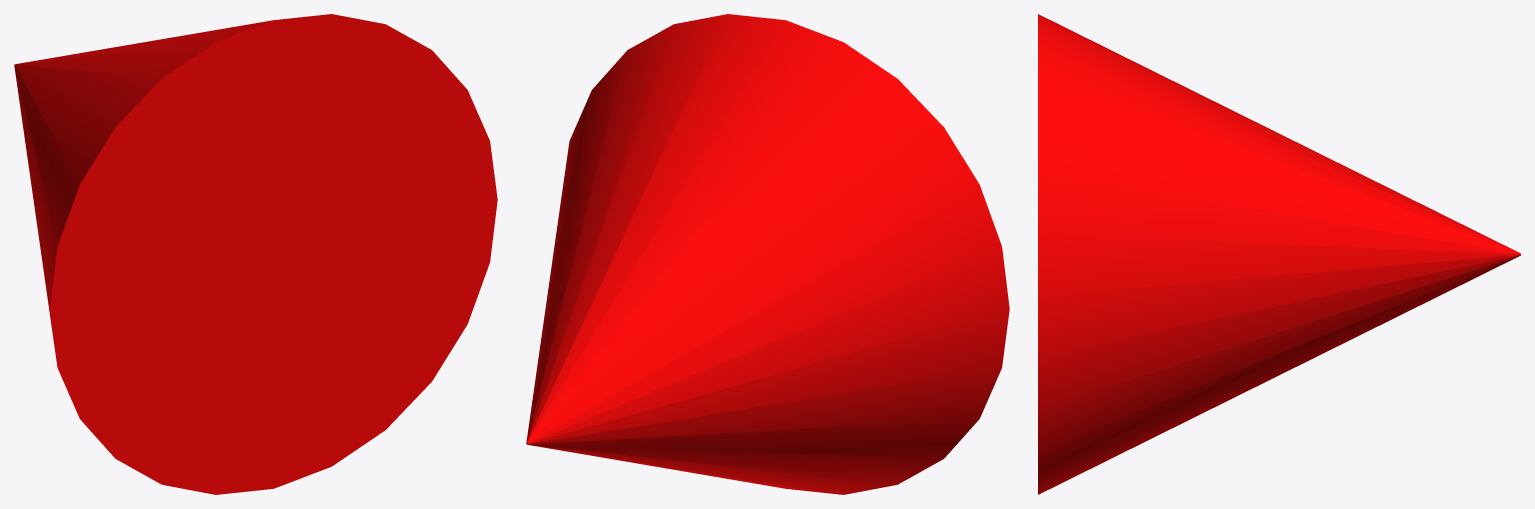
File: vec_210.dae
3 renders of one model, left to right at view 1: azimuth 30°, elevation 25°; view 2: azimuth 150°, elevation 25°; view 3: azimuth 270°, elevation 25°, orthographic. The views are drawn at different scales.
Parts seen in each view (by area): view 1: Model; view 2: Model; view 3: Model.
Part boxes in pixels (x1,y1,x2,y2): Model: (14,14,497,494); Model: (526,14,1009,494); Model: (1038,14,1520,494).
Bounding box in the file's own units: 1 × 1 × 1.
